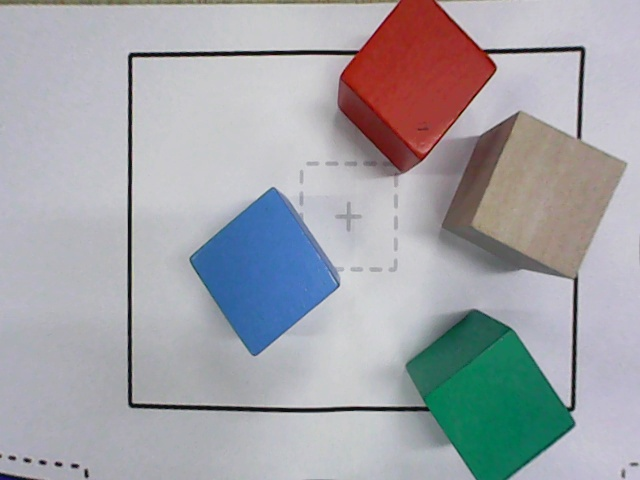upside of big cube: (470, 111, 629, 280), (189, 186, 340, 356), (340, 0, 498, 159), (423, 328, 576, 479)
